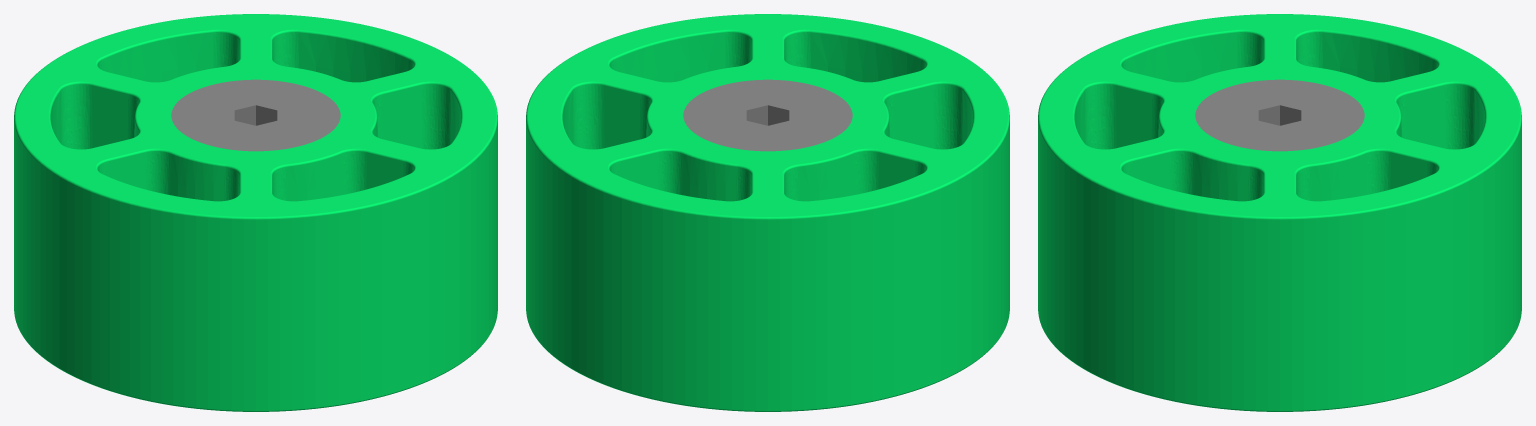
Rendered from model_web.glb.
3 views of the same model, side by side, from view 1: azimuth 30°, elevation 25°; view 2: azimuth 150°, elevation 25°; view 3: azimuth 270°, elevation 25° (orthographic).
Visible parts, largest first — view 1: Node1, Node2; view 2: Node1, Node2; view 3: Node1, Node2.
Part boxes in pixels (left/top/right/bottom): Node1: left=14, top=14, right=497, bottom=411; Node2: left=171, top=79, right=340, bottom=151; Node1: left=526, top=14, right=1009, bottom=411; Node2: left=683, top=79, right=852, bottom=151; Node1: left=1038, top=14, right=1521, bottom=411; Node2: left=1195, top=79, right=1364, bottom=151.
Size of the model in its own units: 57.15 by 25.4 by 57.13.
